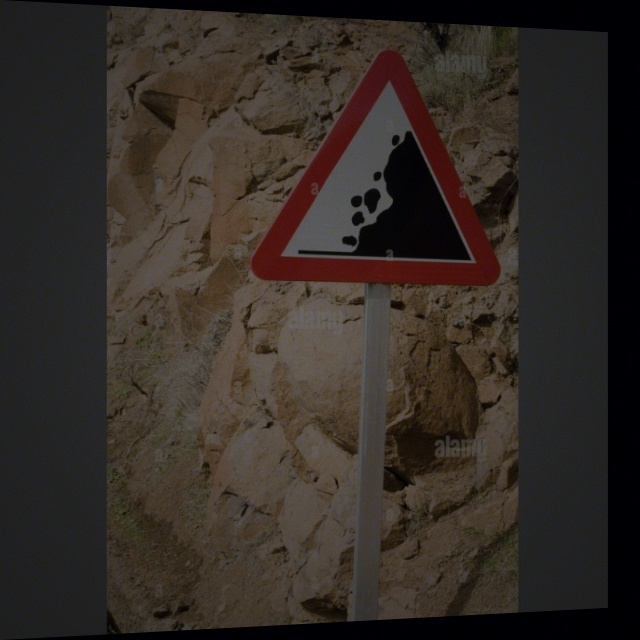Falling_Rocks: (259, 52, 499, 284)
